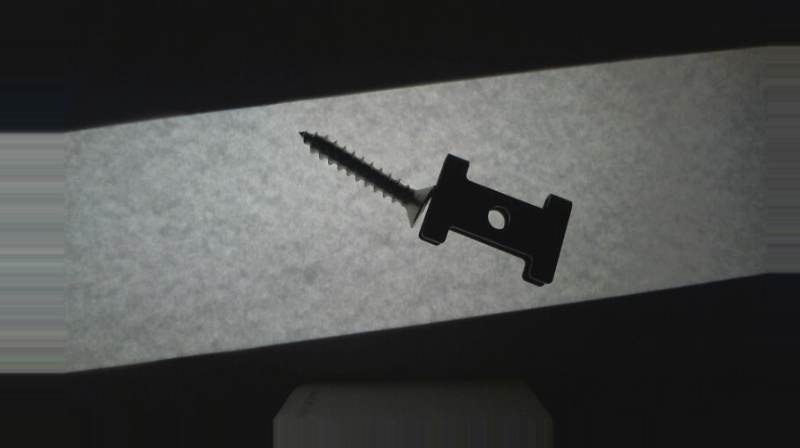O002: (423, 153, 573, 287)
S001: (296, 126, 438, 228)
